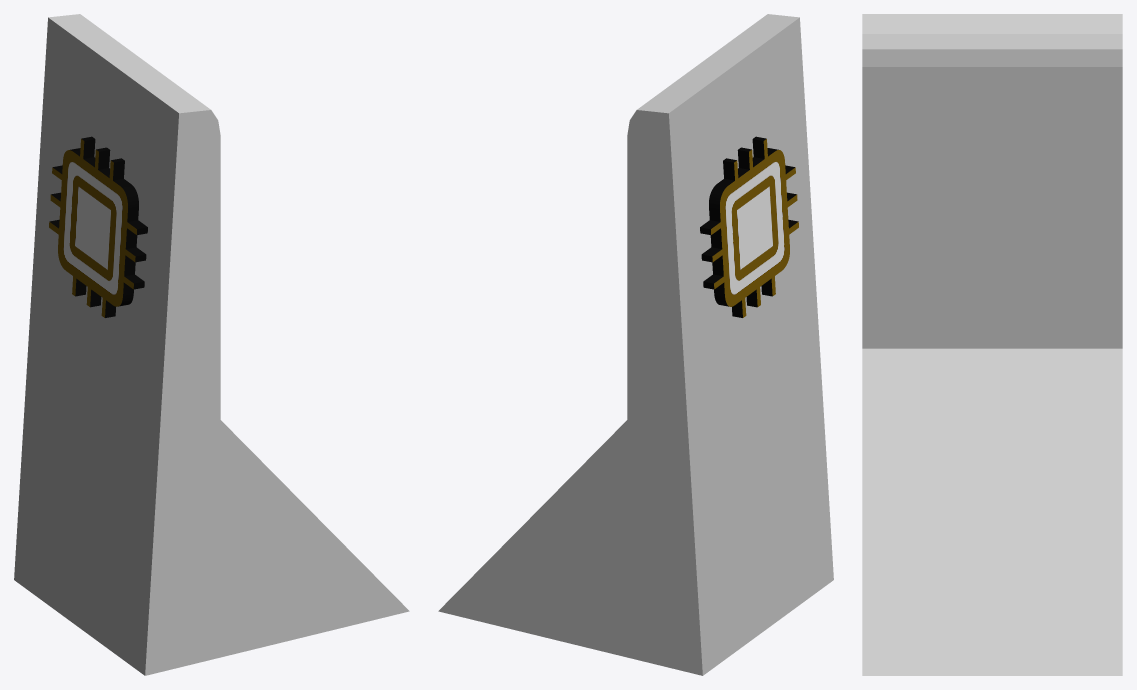
File: os-state.glb
3 renders of one model, left to right at view 1: azimuth 30°, elevation 25°; view 2: azimuth 150°, elevation 25°; view 3: azimuth 270°, elevation 25°, orthographic.
Visible parts, largest first — view 1: state, skill; view 2: state, skill; view 3: state.
Boxes of the visible parts, box(x1,y1,x2,y2) form: state: box(14, 14, 409, 675); skill: box(49, 136, 147, 317); state: box(438, 14, 833, 675); skill: box(700, 136, 798, 317); state: box(862, 14, 1122, 675).
Size of the model in its own units: 3.5 by 7 by 3.
2 materials, 1 textured.
